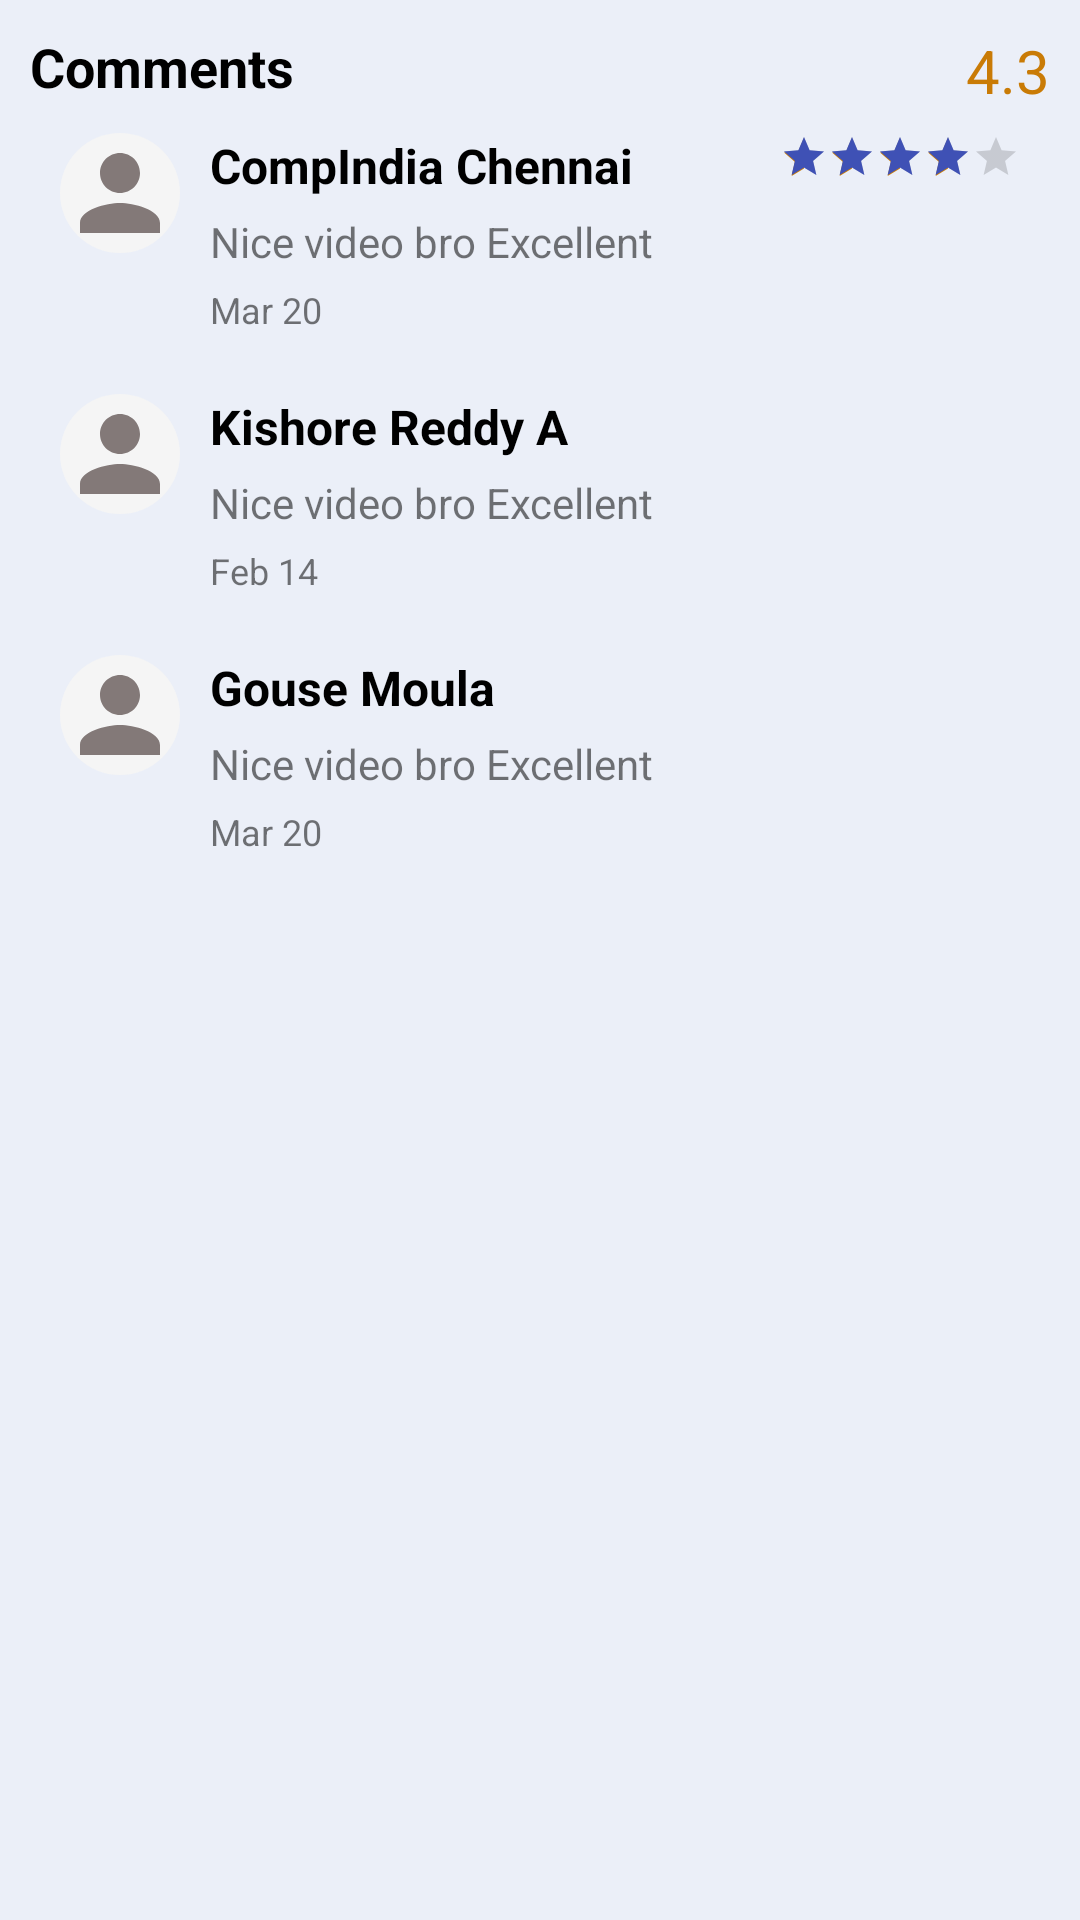

Icons on this 1080px×1920px Android screen, each with its box as {"left": x1, "top": y1, "right": x2, "bottom": y2}:
person: {"left": 80, "top": 153, "right": 160, "bottom": 233}, {"left": 80, "top": 414, "right": 160, "bottom": 494}, {"left": 80, "top": 675, "right": 160, "bottom": 755}
